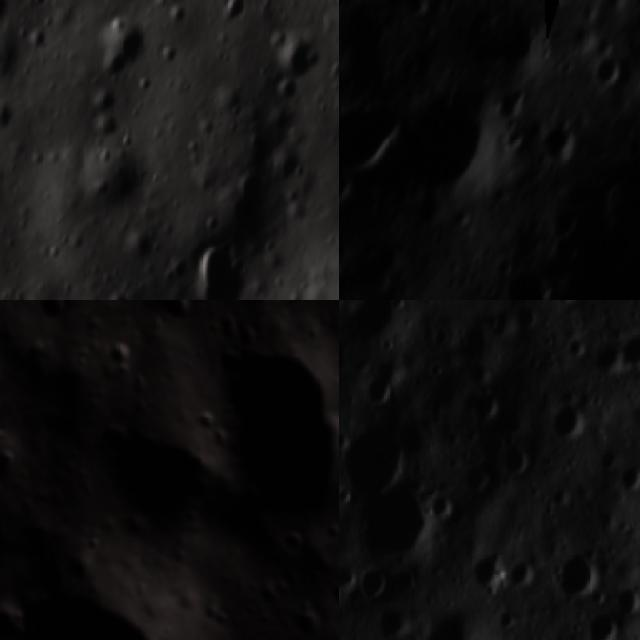crater: (173, 315, 339, 549), (83, 381, 243, 563), (0, 551, 194, 640), (379, 87, 495, 218), (271, 300, 339, 516), (215, 163, 291, 244), (488, 4, 554, 76), (180, 233, 249, 300), (100, 10, 156, 80), (40, 355, 98, 414), (350, 431, 416, 482), (270, 28, 319, 95), (531, 116, 582, 170), (96, 329, 144, 380), (494, 264, 556, 300), (283, 599, 332, 640), (566, 549, 600, 598), (149, 300, 196, 335), (30, 300, 81, 331), (584, 56, 627, 92), (554, 398, 590, 438), (476, 550, 516, 585), (339, 159, 361, 220), (357, 369, 393, 405), (581, 609, 622, 640), (316, 568, 339, 622), (212, 0, 255, 28), (498, 442, 528, 482), (225, 300, 285, 316), (428, 488, 452, 527), (622, 327, 640, 373), (361, 566, 385, 600), (0, 441, 20, 481), (619, 462, 640, 496), (594, 342, 614, 376), (565, 338, 585, 359)
